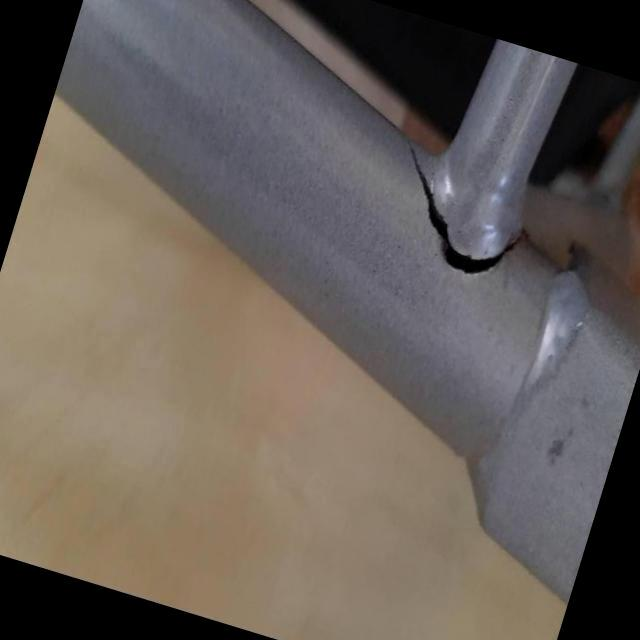defect: (404, 135, 536, 289)
